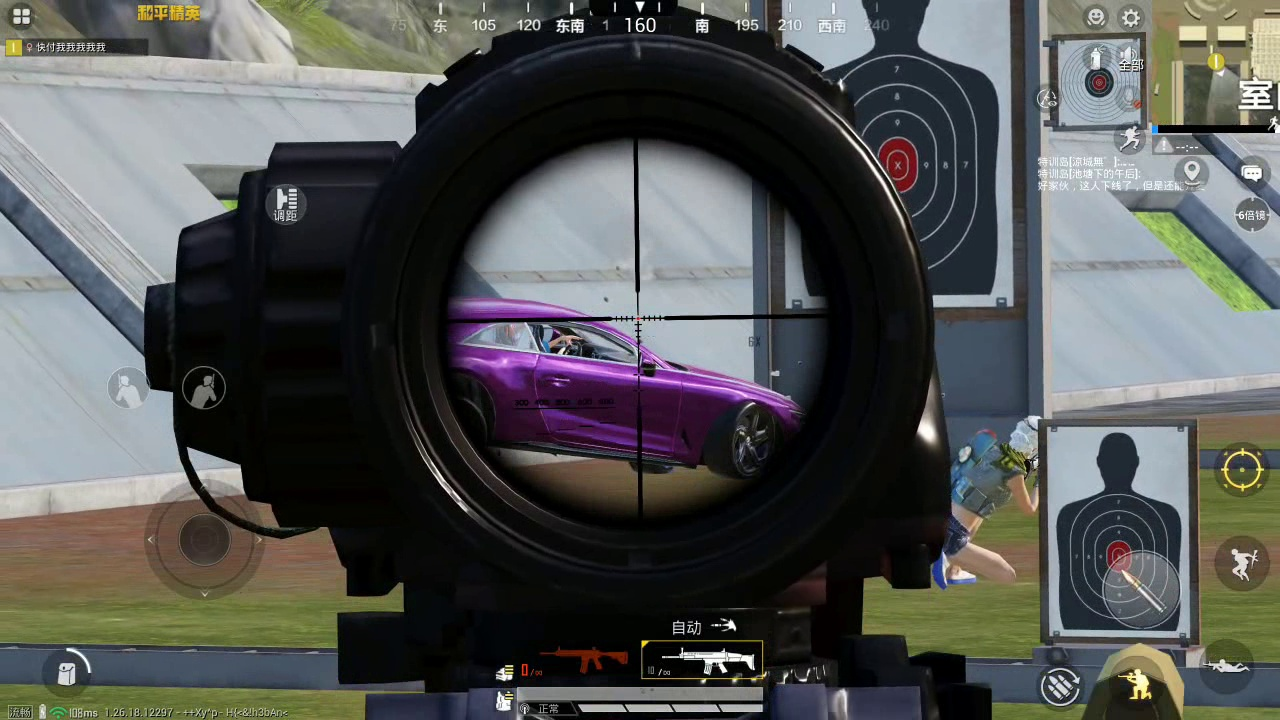enemy: (933, 412, 1040, 584)
